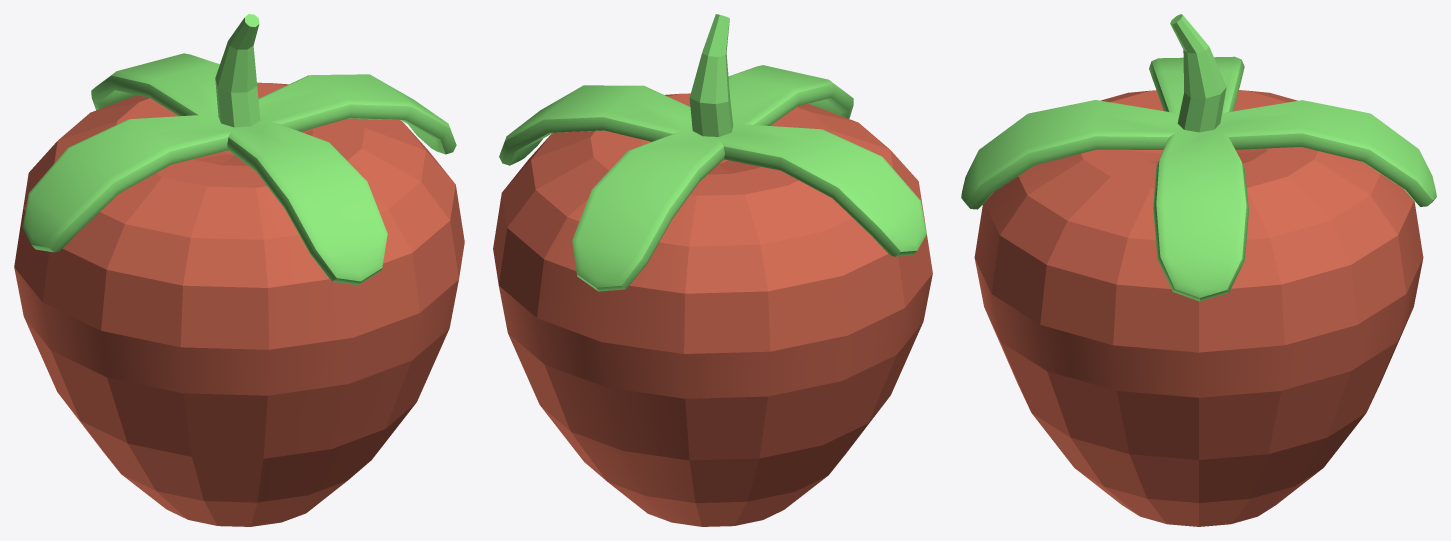
Rendered from StrawBerry.fbx.
3 renders of one model, left to right at view 1: azimuth 30°, elevation 25°; view 2: azimuth 150°, elevation 25°; view 3: azimuth 270°, elevation 25°, orthographic. The views are drawn at different scales.
Parts seen in each view (by area): view 1: lop1, pPlane6; view 2: lop1, pPlane6; view 3: lop1, pPlane6.
Boxes of the visible parts, x1,y1,x2,y2 form: lop1: [14, 82, 464, 526]; pPlane6: [22, 14, 456, 285]; lop1: [493, 93, 932, 526]; pPlane6: [499, 14, 926, 291]; lop1: [974, 90, 1423, 526]; pPlane6: [961, 14, 1436, 301].
Bounding box in the file's own units: 70.44 × 81.71 × 70.44.
